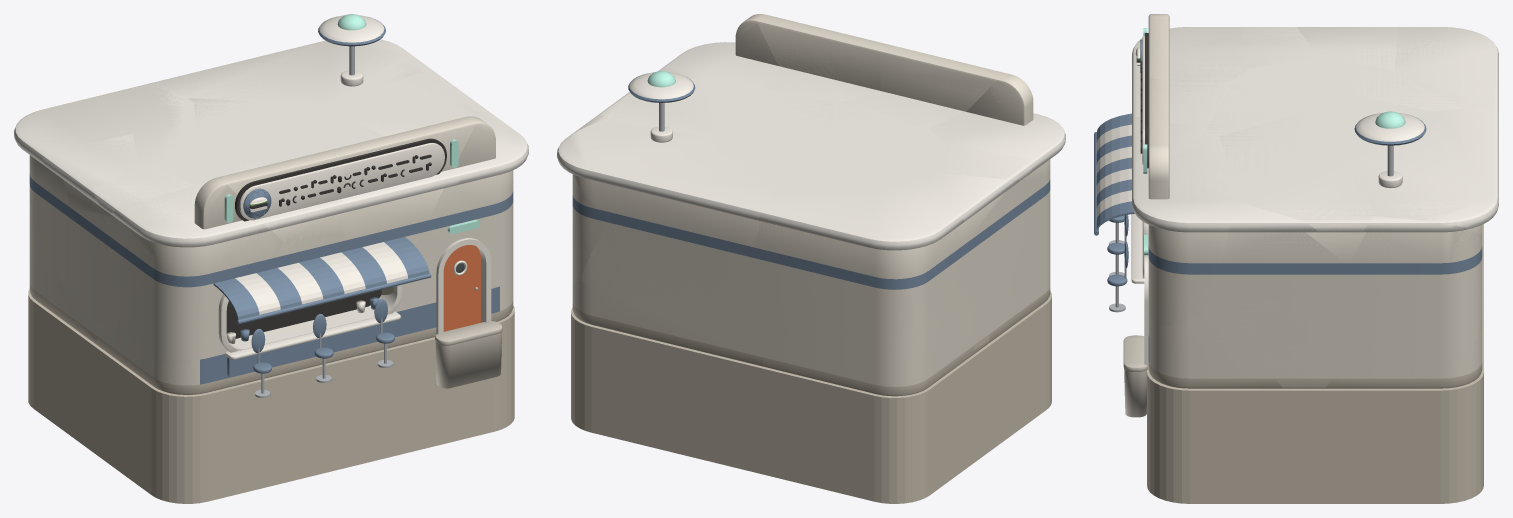
Rendered from Loja_Lanchonete.fbx.
3 renders of one model, left to right at view 1: azimuth 30°, elevation 25°; view 2: azimuth 150°, elevation 25°; view 3: azimuth 270°, elevation 25°, orthographic. The views are drawn at different scales.
Parts seen in each view (by area): view 1: LOD0_Predio.007, LOD0_Base.007, Caco_22.005, Caco_05.007, Caco_15.007, Caco_02.007, LOD0_Obj_Toldo, Caco_21.005, Caco_19.007, Caco_01.007, Caco_17.007, Caco_10.007 (+13 smaller); view 2: LOD0_Base.007, LOD0_Predio.007, Caco_22.005, Caco_06.007, Caco_14.007, Caco_07.007, Caco_05.007, Caco_10.007, Caco_03.007, Caco_17.007, Caco_15.007, Caco_09.007 (+10 smaller); view 3: LOD0_Predio.007, LOD0_Base.007, Caco_08.007, Caco_20.005, Caco_22.005, Caco_21.005, Caco_09.007, Caco_01.007, Caco_14.007, Caco_10.007, Caco_05.007, Caco_16.007 (+11 smaller).
Boxes of the visible parts, x1,y1,x2,y2 form: LOD0_Predio.007: (22,15,523,393); LOD0_Base.007: (28,289,514,503); Caco_22.005: (151,14,420,105); Caco_05.007: (339,118,475,246); Caco_15.007: (111,176,283,288); Caco_02.007: (105,221,235,365); LOD0_Obj_Toldo: (213,237,431,324); Caco_21.005: (417,116,528,264); Caco_19.007: (229,234,400,370); Caco_01.007: (381,243,513,347); Caco_17.007: (222,147,343,242); Caco_10.007: (191,98,383,155); LOD0_Base.007: (571,291,1051,503); LOD0_Predio.007: (559,14,1058,394); Caco_22.005: (557,71,774,253); Caco_06.007: (755,243,975,396); Caco_14.007: (755,192,995,348); Caco_07.007: (580,220,746,345); Caco_05.007: (757,14,893,101); Caco_10.007: (722,90,838,189); Caco_03.007: (876,173,1019,309); Caco_17.007: (853,46,998,128); Caco_15.007: (929,74,1065,184); Caco_09.007: (601,77,764,136); LOD0_Predio.007: (1132,16,1498,388); LOD0_Base.007: (1147,224,1483,503); Caco_08.007: (1339,216,1482,367); Caco_20.005: (1212,200,1348,388); Caco_22.005: (1354,106,1498,240); Caco_21.005: (1132,145,1234,325); Caco_09.007: (1220,160,1374,265); Caco_01.007: (1142,231,1284,388); Caco_14.007: (1394,27,1498,109); Caco_10.007: (1219,110,1442,168); Caco_05.007: (1132,78,1229,232); Caco_16.007: (1247,56,1454,111).
Size of what is drawn, in the model's own units: 11.2 by 9.48 by 9.71.
